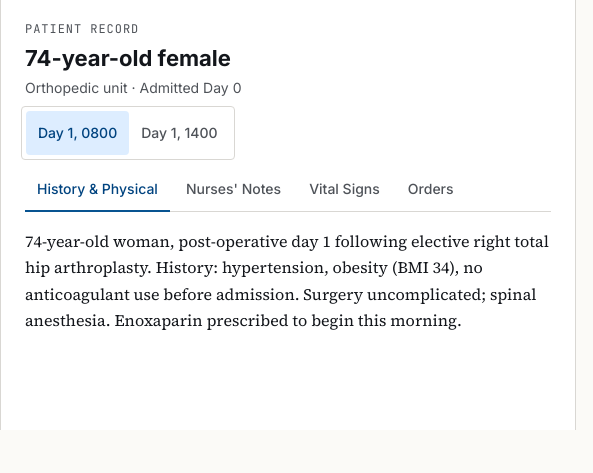
EhrPanel › time points › stays on the same section when the time changes
The image size is (593, 473).
What coordinates should you click on to do the following:
click the tab "Nurses' Notes"
I would click on:
 (234, 190)
Its box is [174,168,293,212].
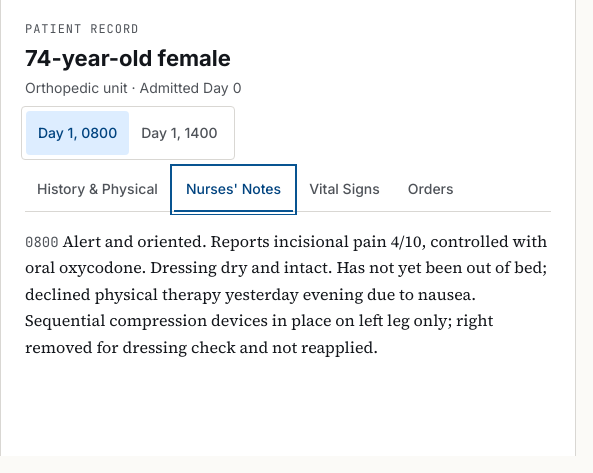
What coordinates should you click on to do the following:
click the radio button labelled "Day 1, 1400"
I would click on:
 (179, 133)
Its box is [129,111,230,155].
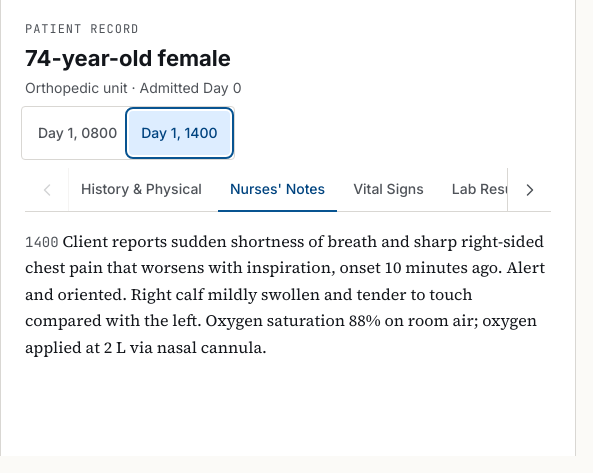
Expected: the text "sudden shortness of breath" is shown, [25,230,545,358]
